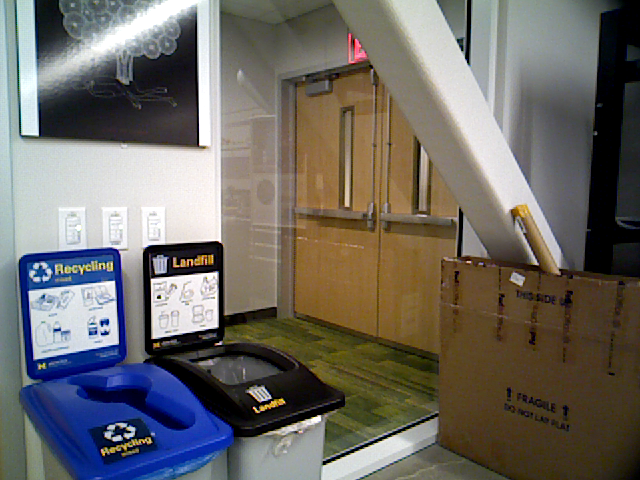painting1: (22, 1, 206, 144)
